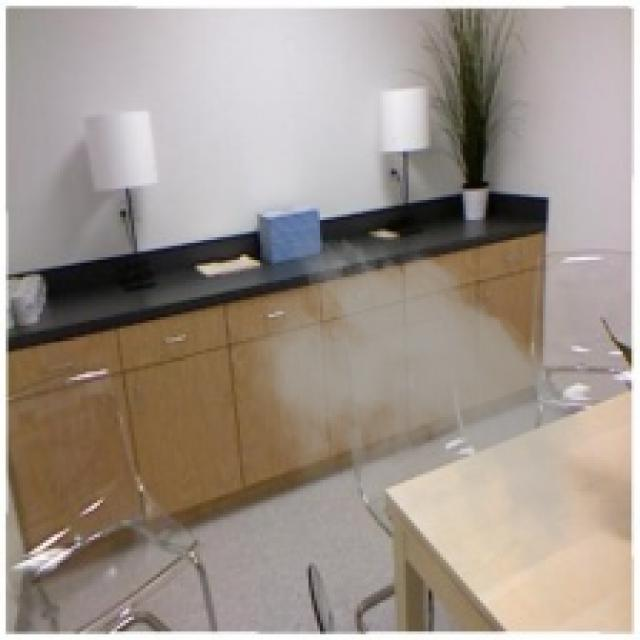Smoke: (226, 222, 632, 634)
